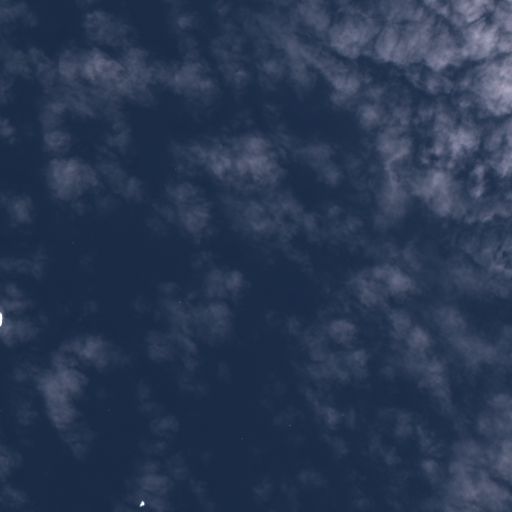Iceberg: (0, 312, 2, 325), (140, 500, 144, 506), (289, 424, 290, 426), (72, 242, 73, 243), (179, 301, 180, 302), (108, 409, 109, 410), (241, 438, 242, 439)
